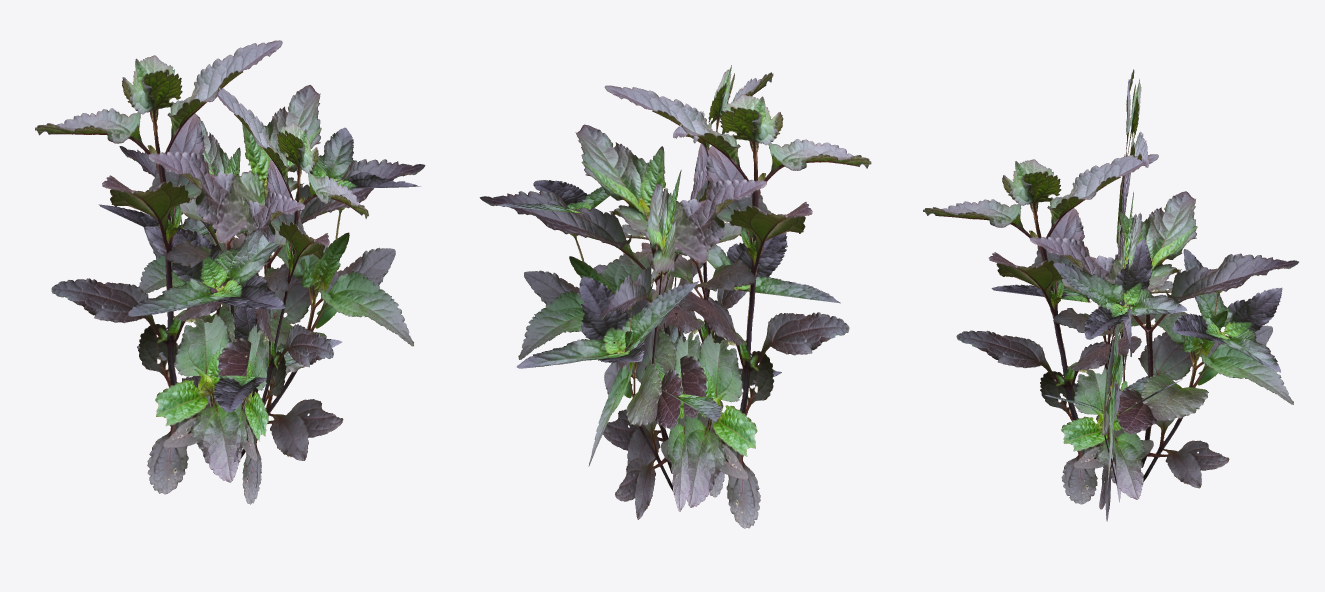
File: m_grass_22.fbx
3 renders of one model, left to right at view 1: azimuth 30°, elevation 25°; view 2: azimuth 150°, elevation 25°; view 3: azimuth 270°, elevation 25°, orthographic. The views are drawn at different scales.
Parts seen in each view (by area): view 1: mesh_grass_22_LOD0; view 2: mesh_grass_22_LOD0; view 3: mesh_grass_22_LOD0.
Boxes of the visible parts, left/top/right/bottom form: mesh_grass_22_LOD0: left=35, top=40, right=425, bottom=504; mesh_grass_22_LOD0: left=479, top=65, right=871, bottom=528; mesh_grass_22_LOD0: left=923, top=69, right=1298, bottom=521.
Size of what is drawn, in the model's own units: 0.5661 by 0.6258 by 0.5382.
